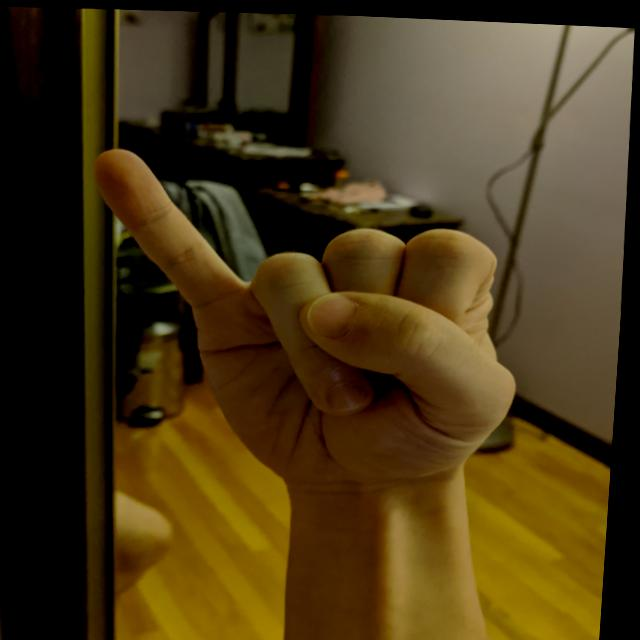I: (68, 130, 541, 504)
